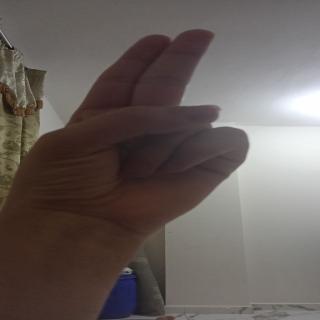TA: (6, 27, 306, 238)
